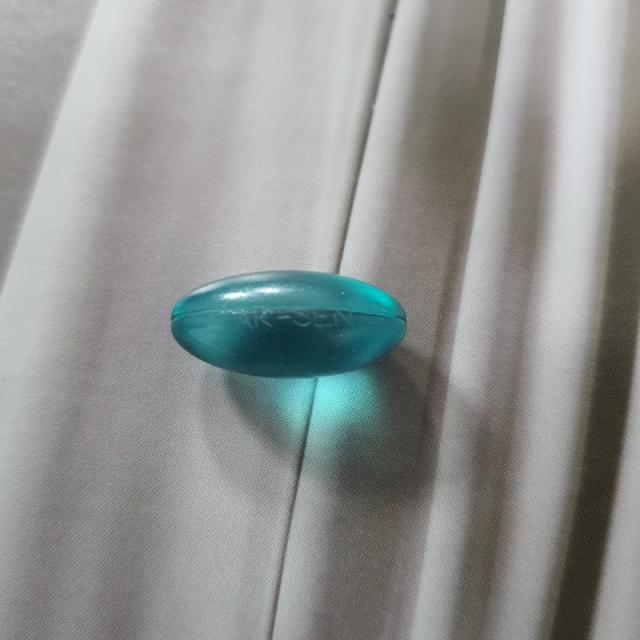pill: (155, 259, 413, 388)
